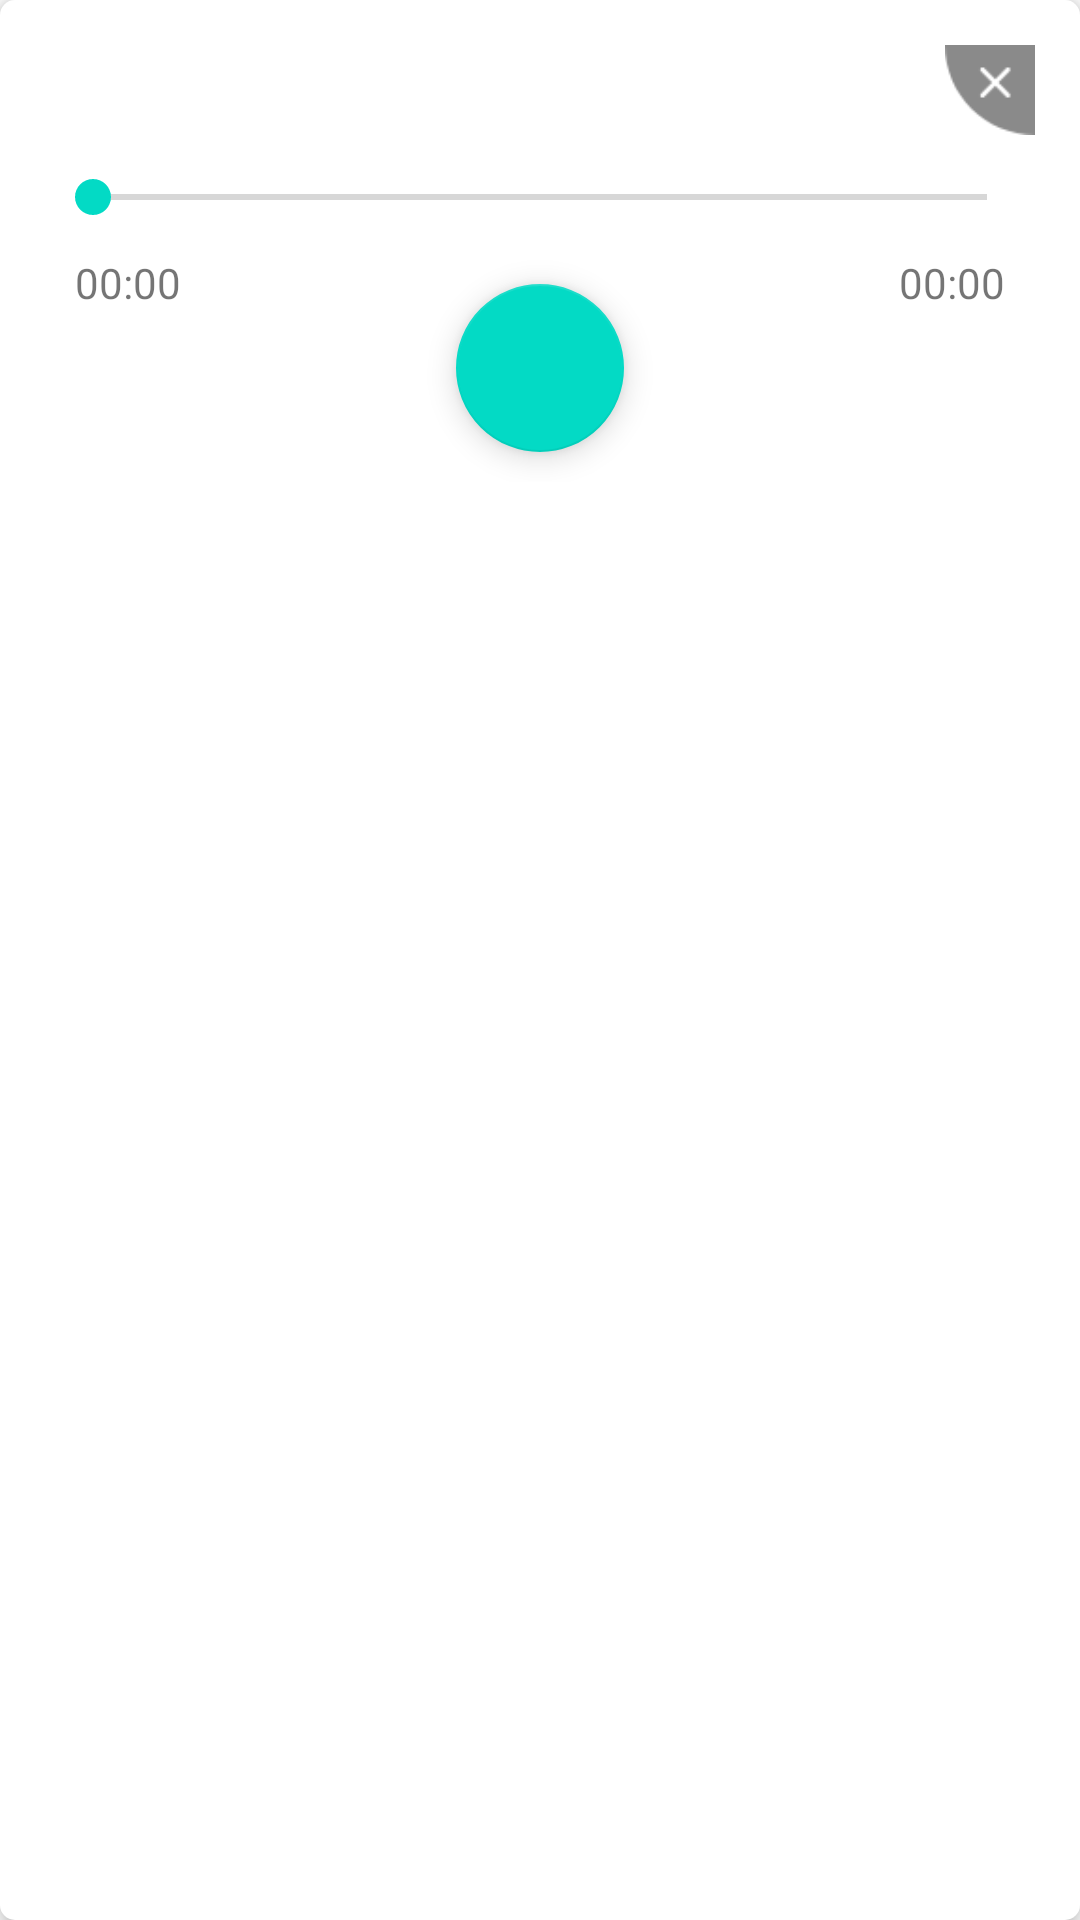

Named icons in this screenshot (1080px x 1920px) and their centers, point (x, y):
base recording close: point (990, 90)
